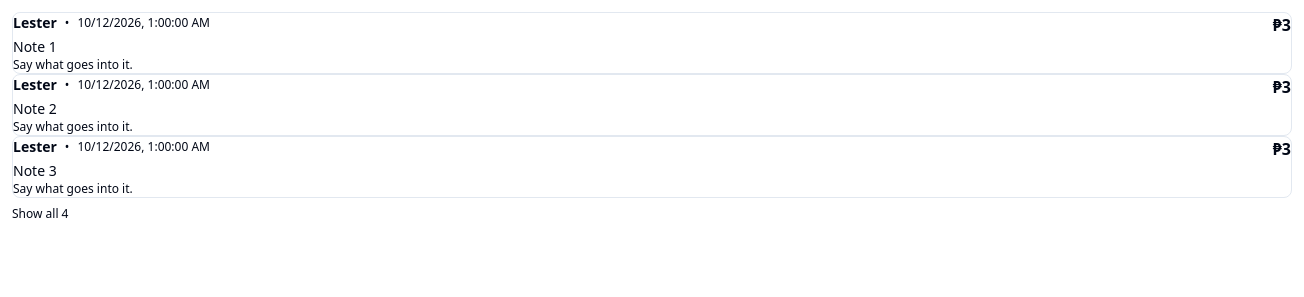
SharedObservations › shows someone else's only with their name and no way to change it, and folds a long list
Expected: the text "Lester" is shown 3 times, [13,13,57,33]; [13,75,57,95]; [13,137,57,157]
Click the button "Show all 4". click: coordinates (40, 214)
box: [12,206,68,222]
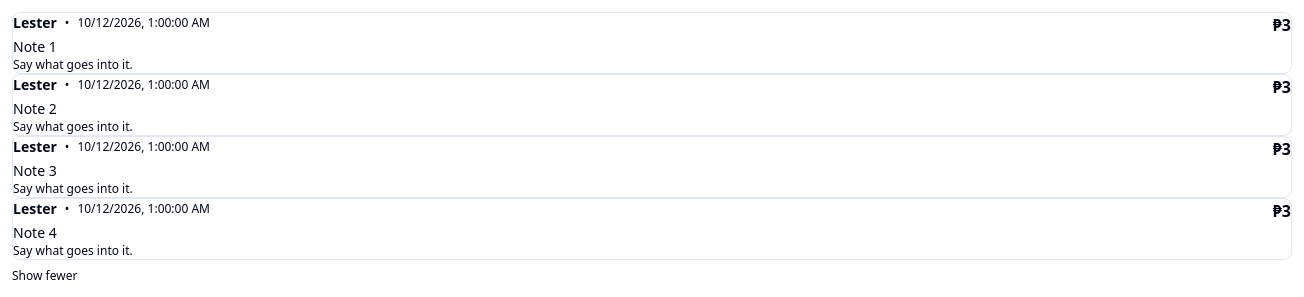
Now the text "Note 4" is shown, box [13,223,57,242]
